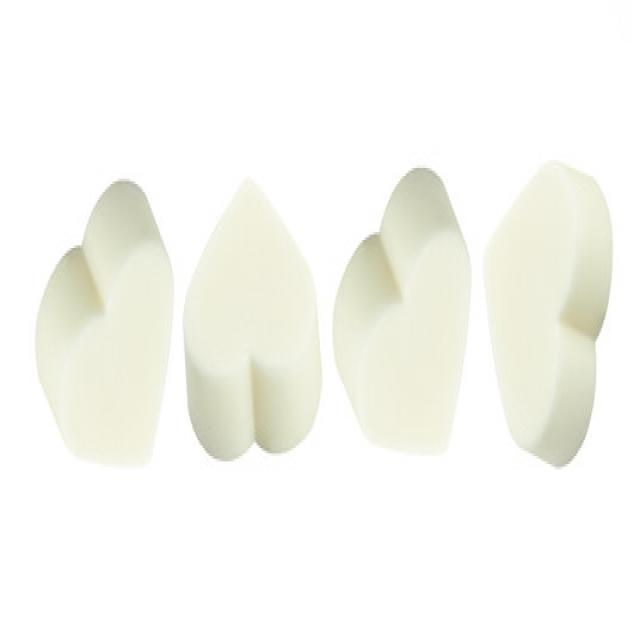chocolate: (328, 160, 475, 474), (479, 160, 614, 469), (183, 173, 324, 465), (41, 177, 172, 476)
